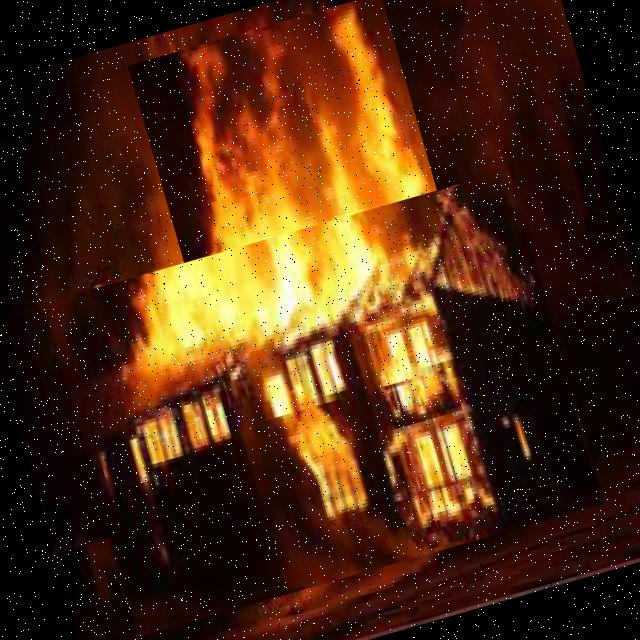fire: (43, 169, 604, 636), (127, 0, 463, 356)
